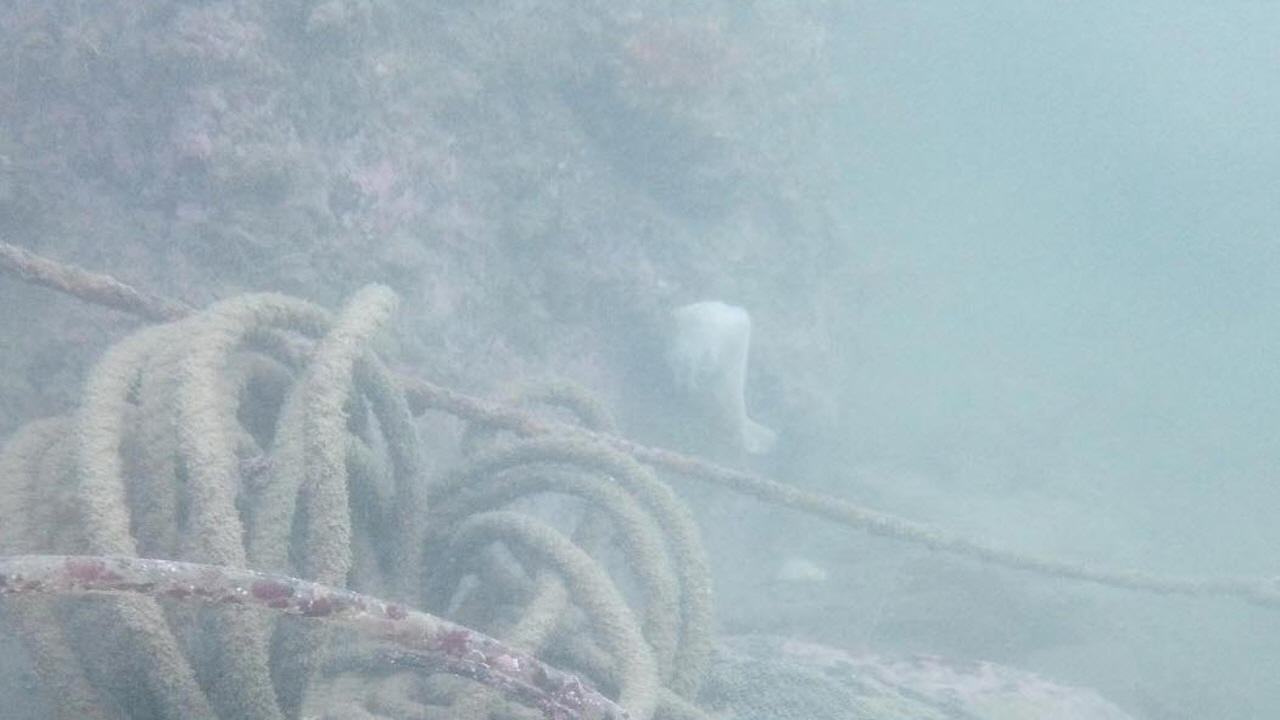bundle of ropes: (0, 275, 720, 720)
rope: (0, 236, 1280, 608)
